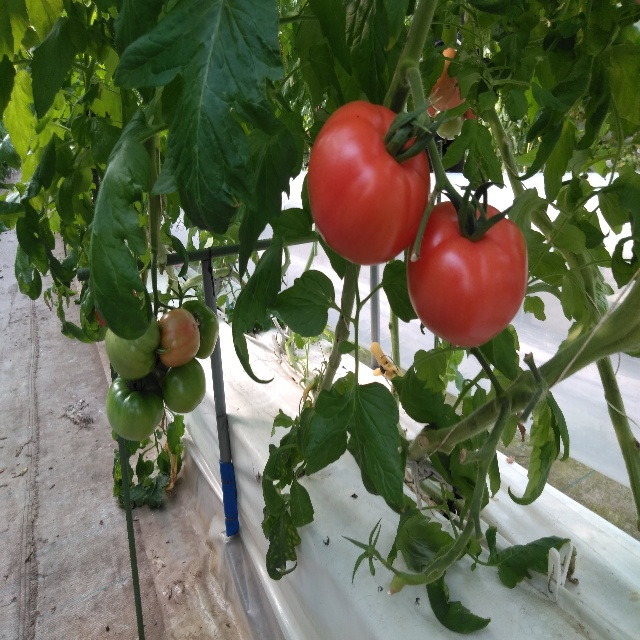b_fully_ripened: (307, 100, 430, 266), (407, 198, 528, 348)
b_green: (105, 306, 161, 380), (105, 373, 164, 441), (161, 358, 206, 414), (178, 300, 220, 359), (434, 107, 465, 140)
b_half_ripened: (159, 308, 201, 368), (430, 48, 466, 111)
